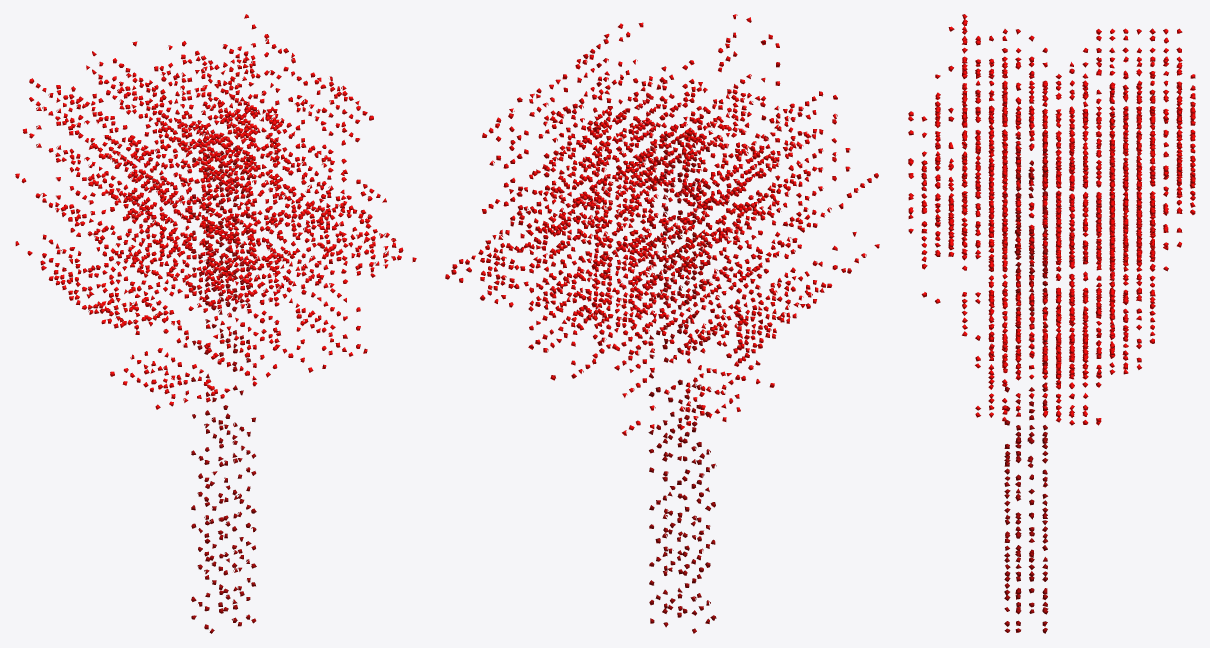
File: moleculardataplant-Red-v117.glb
3 views of the same model, side by side, from view 1: azimuth 30°, elevation 25°; view 2: azimuth 150°, elevation 25°; view 3: azimuth 270°, elevation 25° (orthographic). The views are drawn at different scales.
Visible parts, largest first — view 1: moleculardataplant-Red; view 2: moleculardataplant-Red; view 3: moleculardataplant-Red.
Boxes of the visible parts, left/top/right/bottom form: moleculardataplant-Red: left=15, top=14, right=416, bottom=633; moleculardataplant-Red: left=445, top=14, right=879, bottom=633; moleculardataplant-Red: left=908, top=14, right=1195, bottom=633.
Size of the model in its own units: 0.9867 by 1.67 by 0.7351.
